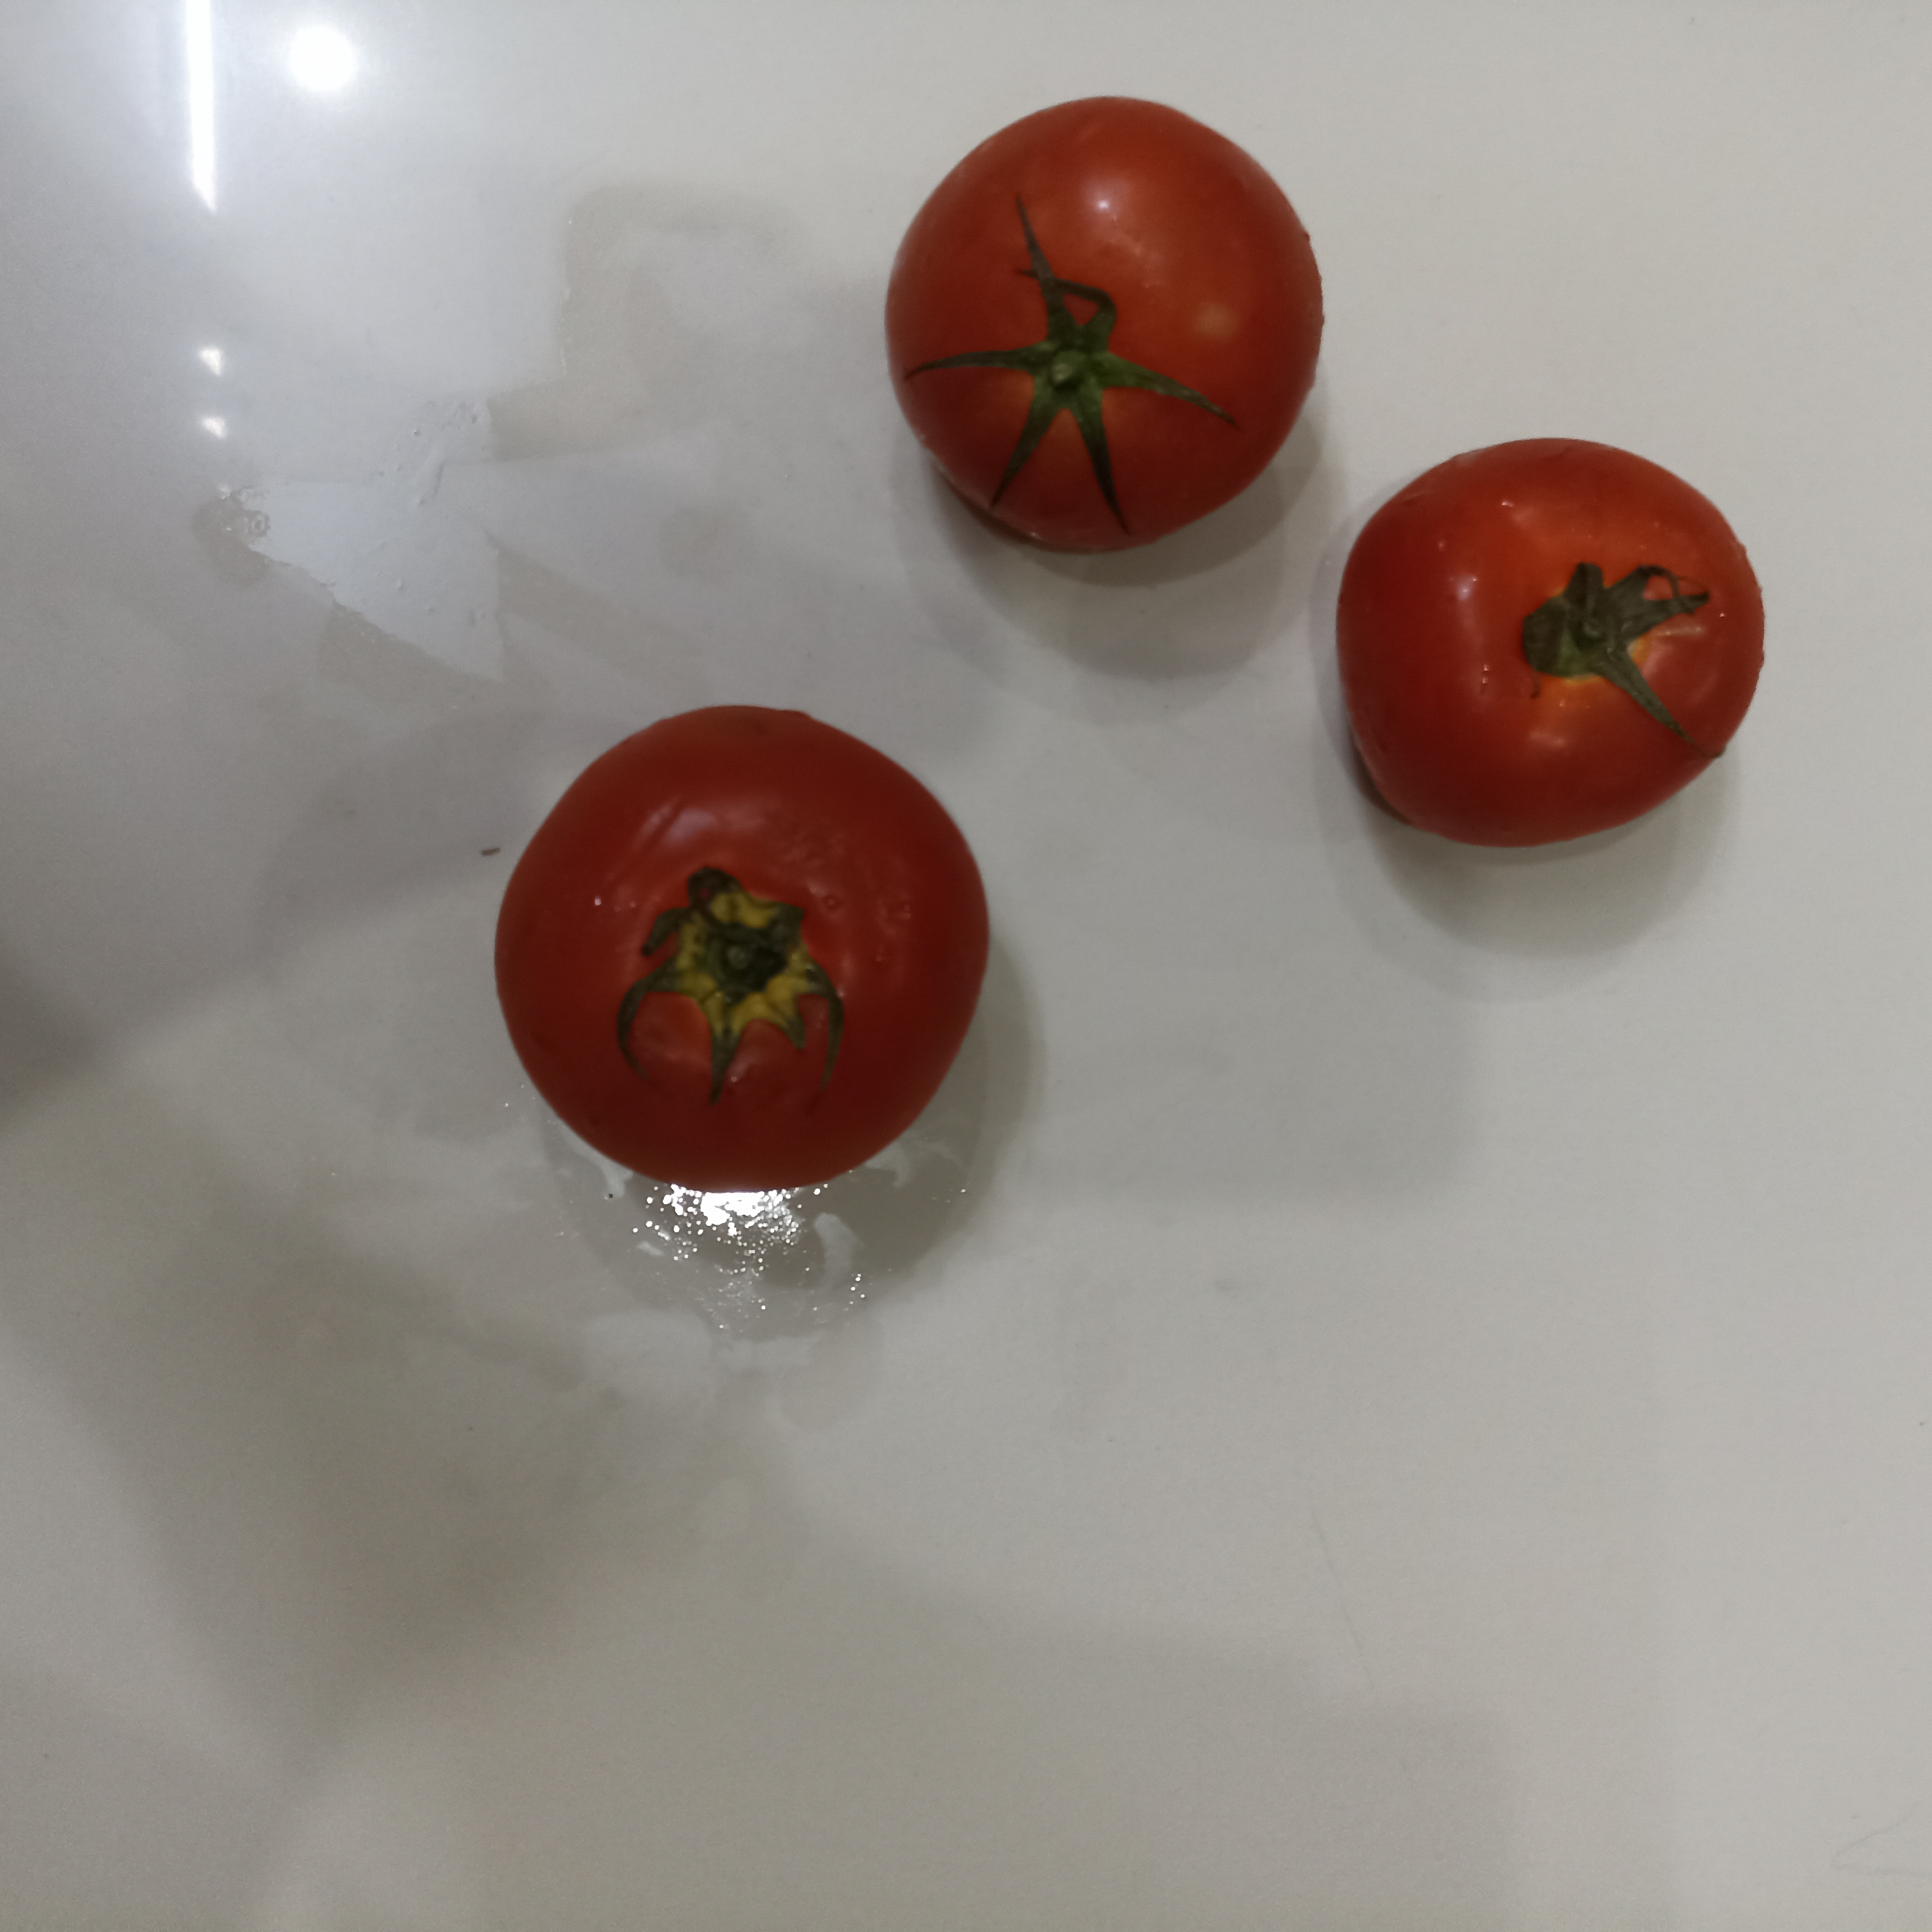Ca chua: (494, 706, 993, 1194), (881, 97, 1322, 550), (1332, 432, 1769, 849)
